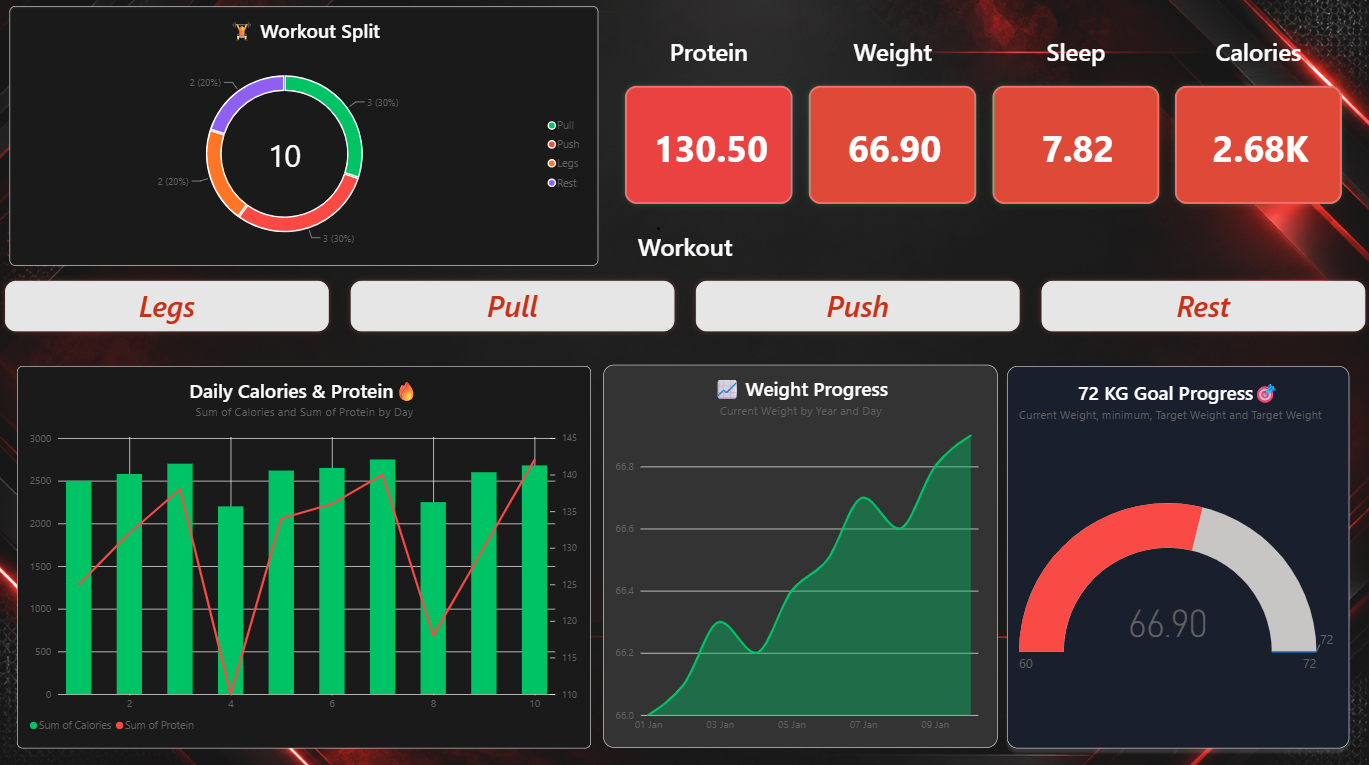

This screenshot's page, from the dashboard's own definition file:
{"tool":"powerbi","page":{"name":"Page 1","canvas":[1920,1080],"ordinal":0},"visuals":[{"type":"cardVisual","title":"Calories","fields":{"Data":["gymdata.Current Calories"]},"box":[1632.6,54.1,255,247.1],"z":0},{"type":"lineChart","title":"📈 Weight Progress","fields":{"Category":["gymdata.Date.Variation.Date Hierarchy.Year","gymdata.Date.Variation.Date Hierarchy.Day"],"Y":["gymdata.Current Weight"]},"box":[846,514,550,534],"z":1000},{"type":"advancedSlicerVisual","fields":{"Values":["gymdata.Workout"]},"box":[0,326.2,1920.4,153.5],"z":2000},{"type":"donutChart","title":"🏋️ Workout Split","fields":{"Category":["gymdata.Workout"],"Y":["CountNonNull(gymdata.Workout)"]},"box":[17.4,14,821.5,362.8],"z":3000},{"type":"cardVisual","title":"Protein","fields":{"Data":["Avg(gymdata.Protein)"]},"box":[865.1,54.1,256.6,247.1],"z":4000},{"type":"cardVisual","title":"Sleep ","fields":{"Data":["Avg(gymdata.SleepHours)"]},"box":[1377.9,54.1,255,247.1],"z":5000},{"type":"cardVisual","title":"Weight","fields":{"Data":["gymdata.Current Weight"]},"box":[1121.5,54.1,256.6,247.1],"z":6000},{"type":"gauge","title":"72 KG Goal Progress🎯","fields":{"MaxValue":["gymdata.Target Weight"],"MinValue":["gymdata.minimum"],"TargetValue":["gymdata.Target Weight"],"Y":["gymdata.Current Weight"]},"box":[1410,516,477.9,533.7],"z":7000},{"type":"lineClusteredColumnComboChart","title":"Daily Calories & Protein🔥","fields":{"Category":["gymdata.Date.Variation.Date Hierarchy.Day"],"Y":["Sum(gymdata.Calories)"],"Y2":["Sum(gymdata.Protein)"]},"box":[28,516,800.6,533.7],"z":8000}]}

Visuals, with their boxes in screenshot pixels (x1, y1, x2, y2), scaled from the page's 1920x1080 canvas onto the 1369x765 screenshot:
"Calories" cardVisual: (1164,38,1346,213)
"📈 Weight Progress" lineChart: (603,364,995,742)
advancedSlicerVisual - gymdata.Workout: (0,231,1368,340)
"🏋️ Workout Split" donutChart: (12,10,598,267)
"Protein" cardVisual: (617,38,800,213)
"Sleep " cardVisual: (982,38,1164,213)
"Weight" cardVisual: (800,38,983,213)
"72 KG Goal Progress🎯" gauge: (1005,366,1346,744)
"Daily Calories & Protein🔥" lineClusteredColumnComboChart: (20,366,591,744)
